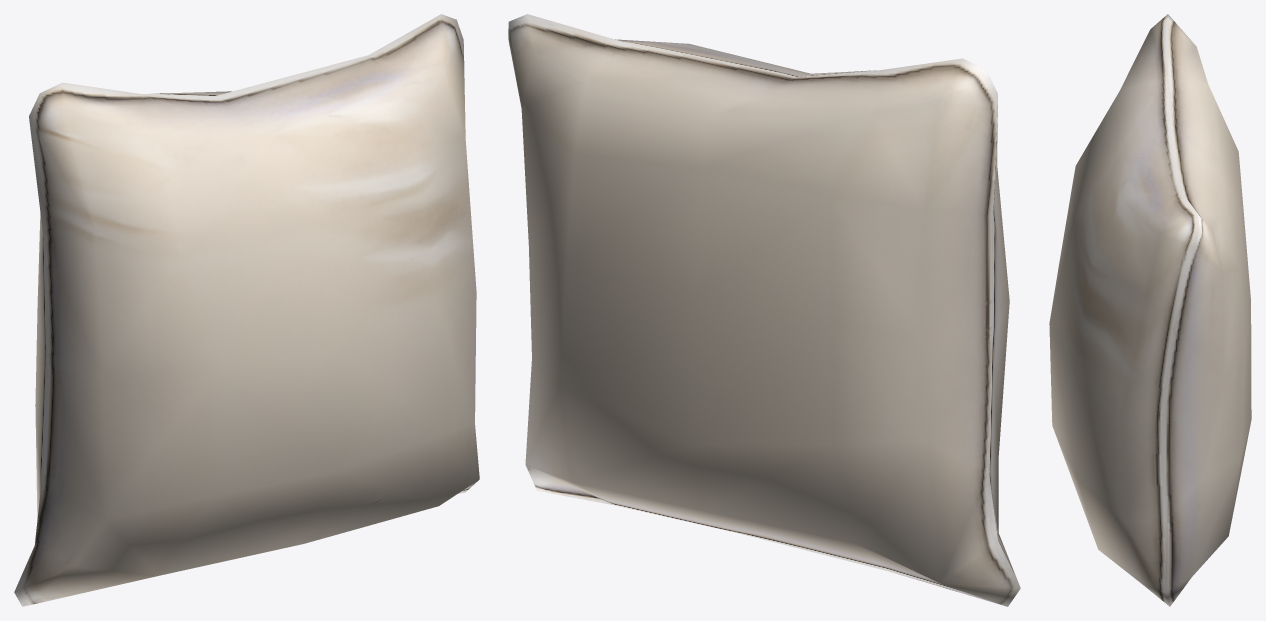
The model's file is PillowB.FBX.
3 renders of one model, left to right at view 1: azimuth 30°, elevation 25°; view 2: azimuth 150°, elevation 25°; view 3: azimuth 270°, elevation 25°, orthographic. The views are drawn at different scales.
Visible parts, largest first — view 1: PillowB; view 2: PillowB; view 3: PillowB.
Boxes of the visible parts, x1,y1,x2,y2 form: PillowB: (14,14,479,606); PillowB: (508,14,1020,606); PillowB: (1049,14,1251,606).
Bounding box in the file's own units: 46.27 × 20.75 × 48.4.
